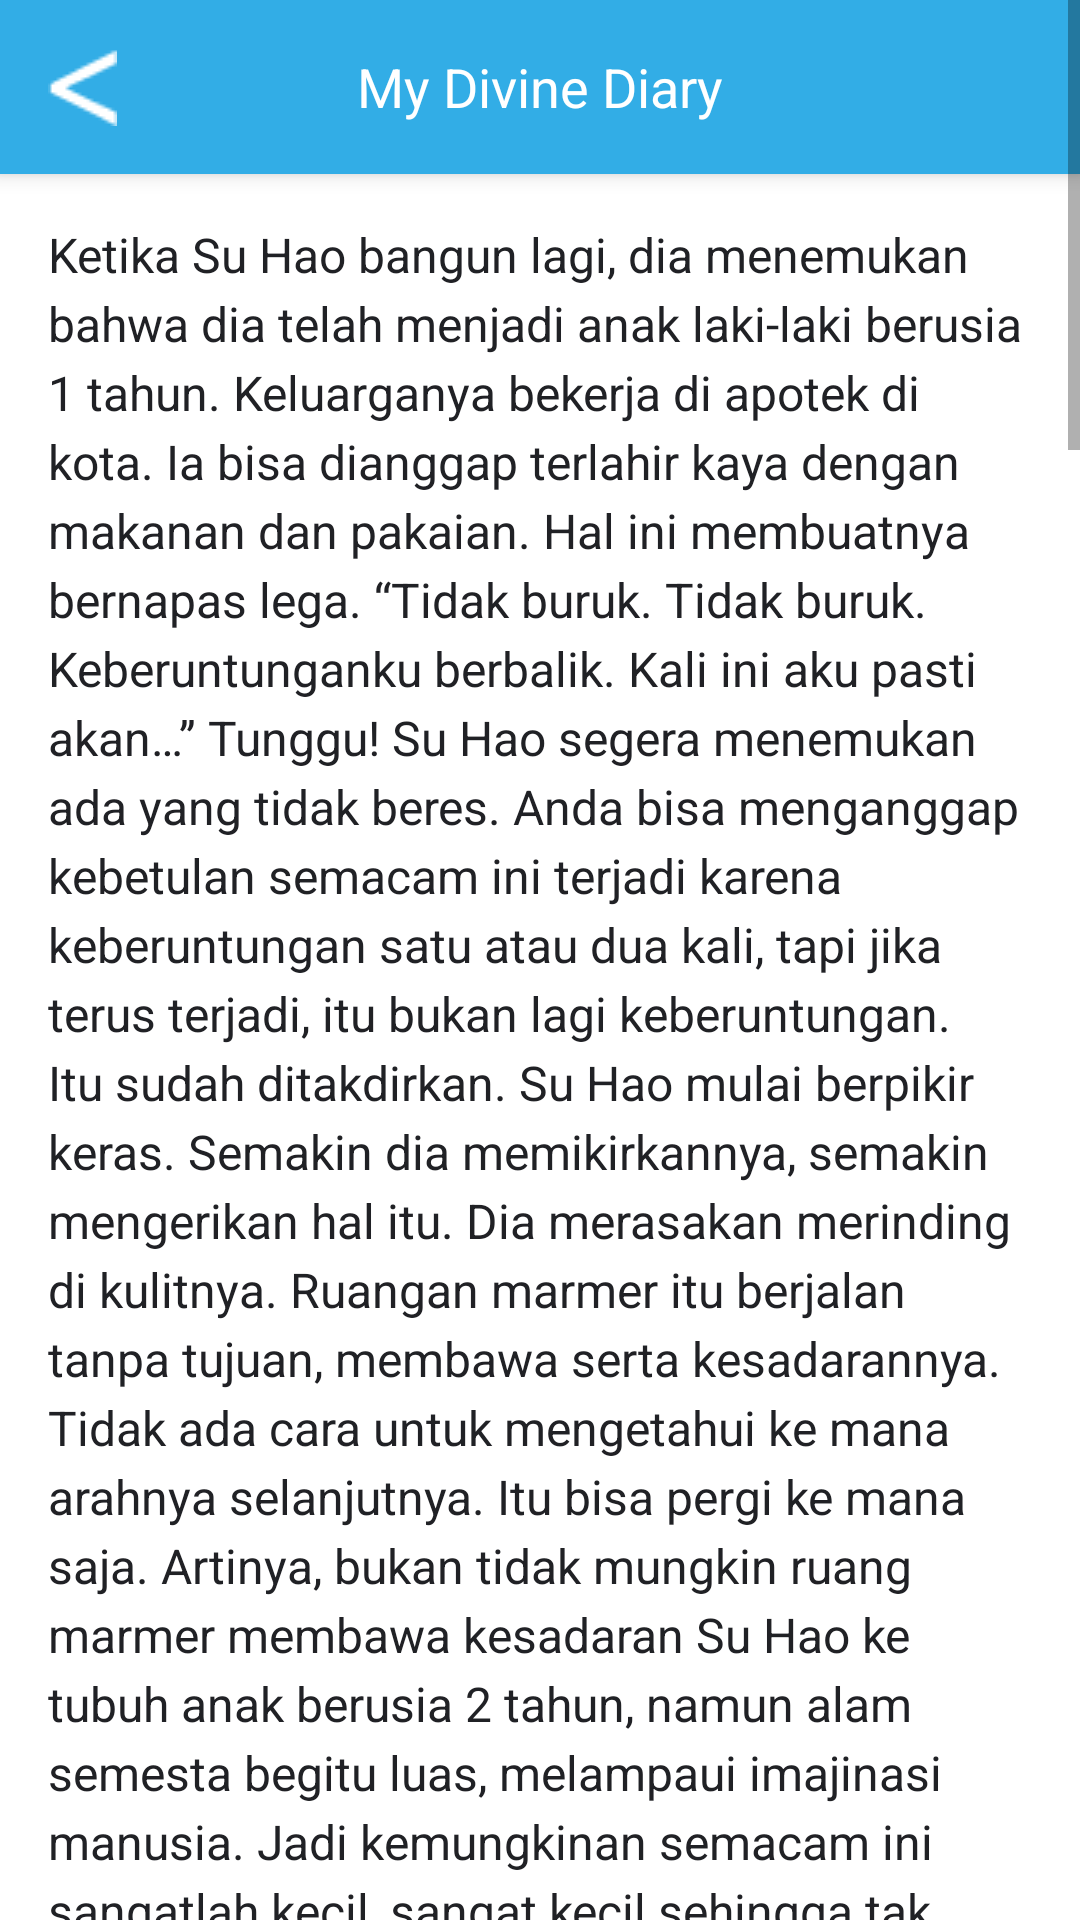

Icon click points for this 1080w x 1920h phone screenshot, format (x=x, y=y):
back: (x=82, y=88)
